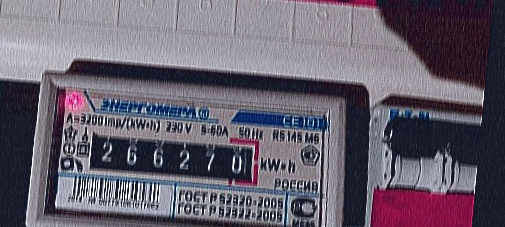0: (227, 151, 241, 172)
2: (96, 140, 113, 161), (174, 147, 190, 168)
6: (122, 142, 137, 164), (149, 146, 164, 167)
7: (200, 150, 213, 170)
screen: (77, 120, 265, 190)
